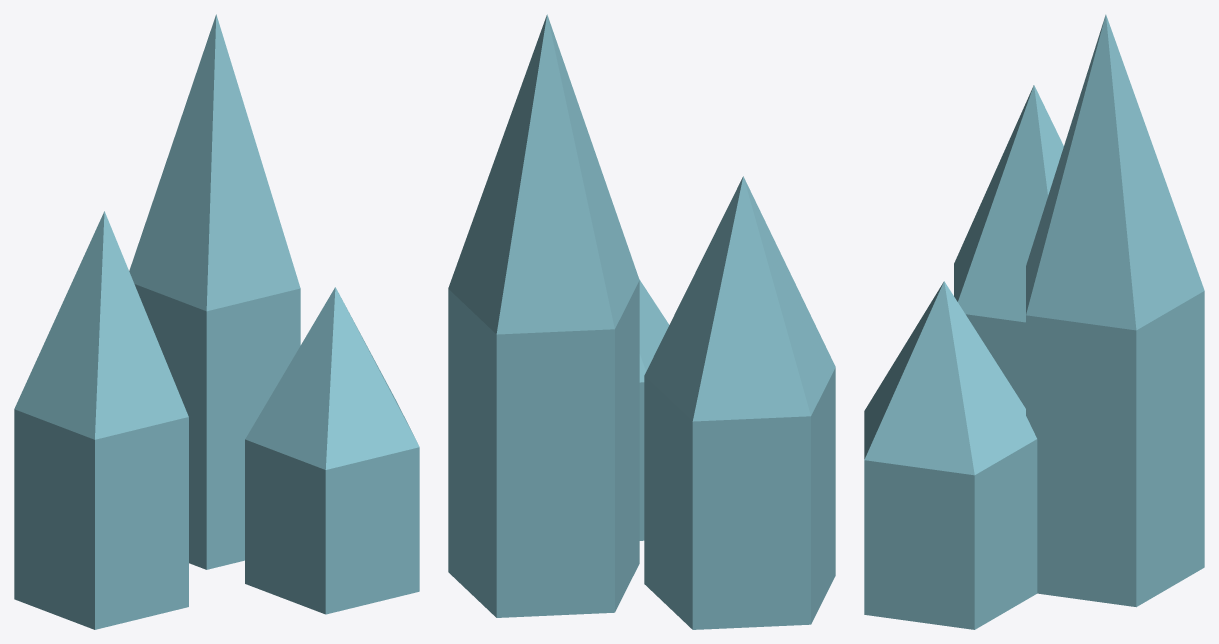
Rendered from ice_crystals.glb.
3 renders of one model, left to right at view 1: azimuth 30°, elevation 25°; view 2: azimuth 150°, elevation 25°; view 3: azimuth 270°, elevation 25°, orthographic. The views are drawn at different scales.
Parts seen in each view (by area): view 1: Ice prism, Ice tip.001, Ice prism.002, Ice prism.001, Ice tip, Ice tip.002; view 2: Ice prism.001, Ice prism, Ice tip.001, Ice tip, Ice tip.002, Ice prism.002; view 3: Ice prism.001, Ice tip.001, Ice prism.002, Ice tip.002, Ice tip, Ice prism.
Boxes of the visible parts, bbox=[...] form: Ice prism: bbox=[14, 409, 188, 629]; Ice tip.001: bbox=[129, 14, 300, 311]; Ice prism.002: bbox=[245, 439, 419, 614]; Ice prism.001: bbox=[134, 284, 300, 569]; Ice tip: bbox=[14, 211, 188, 439]; Ice tip.002: bbox=[245, 287, 419, 469]; Ice prism.001: bbox=[448, 280, 639, 617]; Ice prism: bbox=[644, 368, 835, 629]; Ice tip.001: bbox=[448, 14, 639, 334]; Ice tip: bbox=[644, 176, 835, 421]; Ice tip.002: bbox=[639, 279, 669, 382]; Ice prism.002: bbox=[639, 382, 644, 540]; Ice prism.001: bbox=[1026, 291, 1204, 607]; Ice tip.001: bbox=[1026, 14, 1204, 330]; Ice prism.002: bbox=[864, 439, 1037, 629]; Ice tip.002: bbox=[864, 281, 1036, 475]; Ice tip: bbox=[954, 85, 1063, 322]; Ice prism: bbox=[966, 314, 1025, 408].
Size of the model in its own units: 0.4692 by 0.68 by 0.379.
